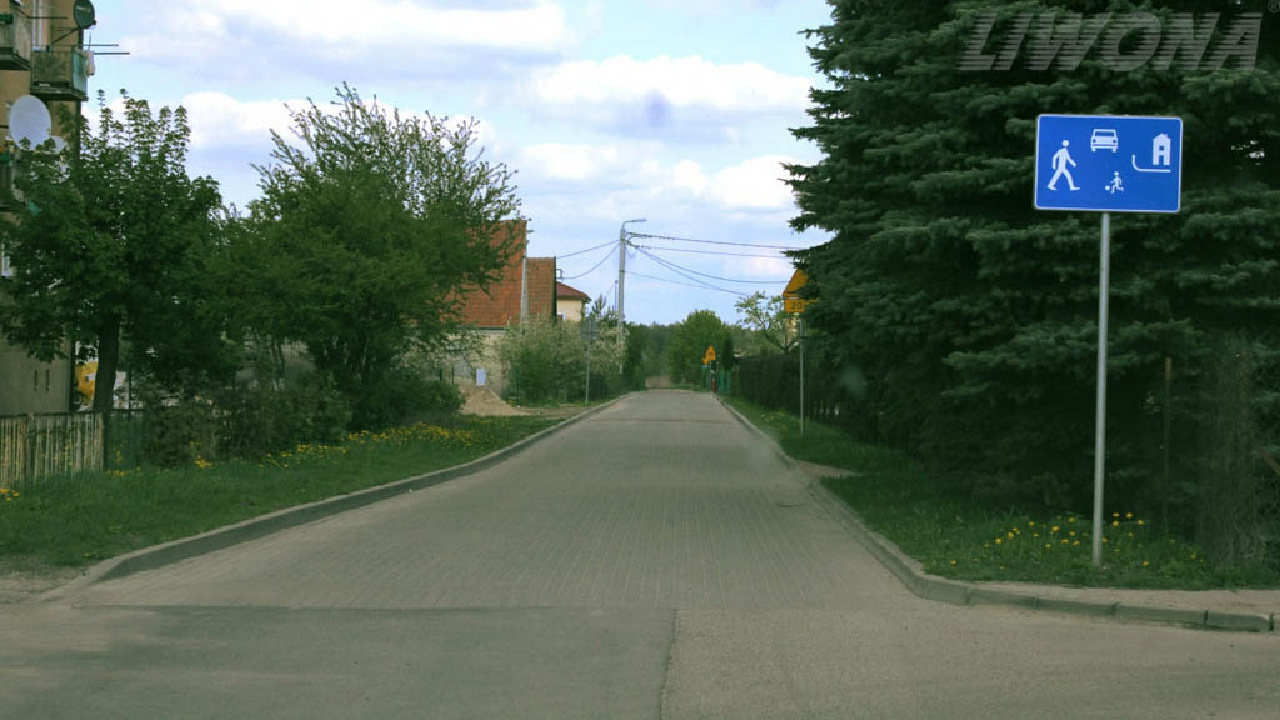D40: (1037, 114, 1183, 216)
